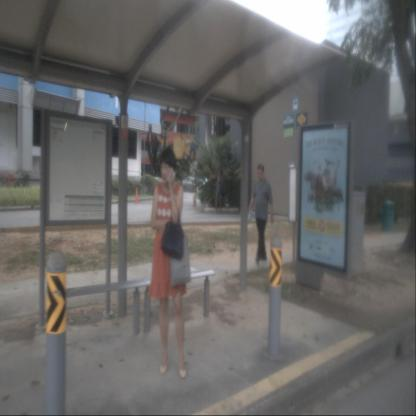human-pedestrian-adult: (148, 145, 190, 379), (247, 163, 274, 270), (212, 164, 225, 212)
movable_object-trafficcone: (134, 188, 140, 203), (192, 194, 196, 207)
vehicle-car: (182, 175, 206, 194)
